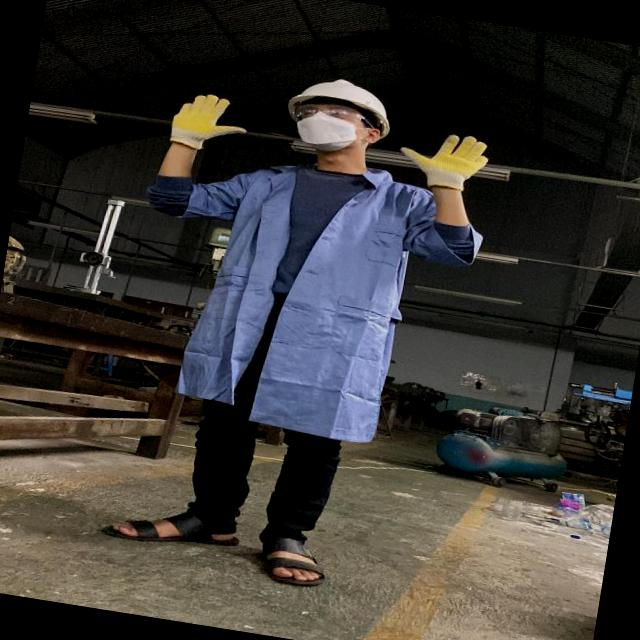gloves: (154, 60, 268, 196), (390, 118, 521, 229)
helmet: (288, 72, 391, 128)
no-boots: (58, 421, 404, 634)
